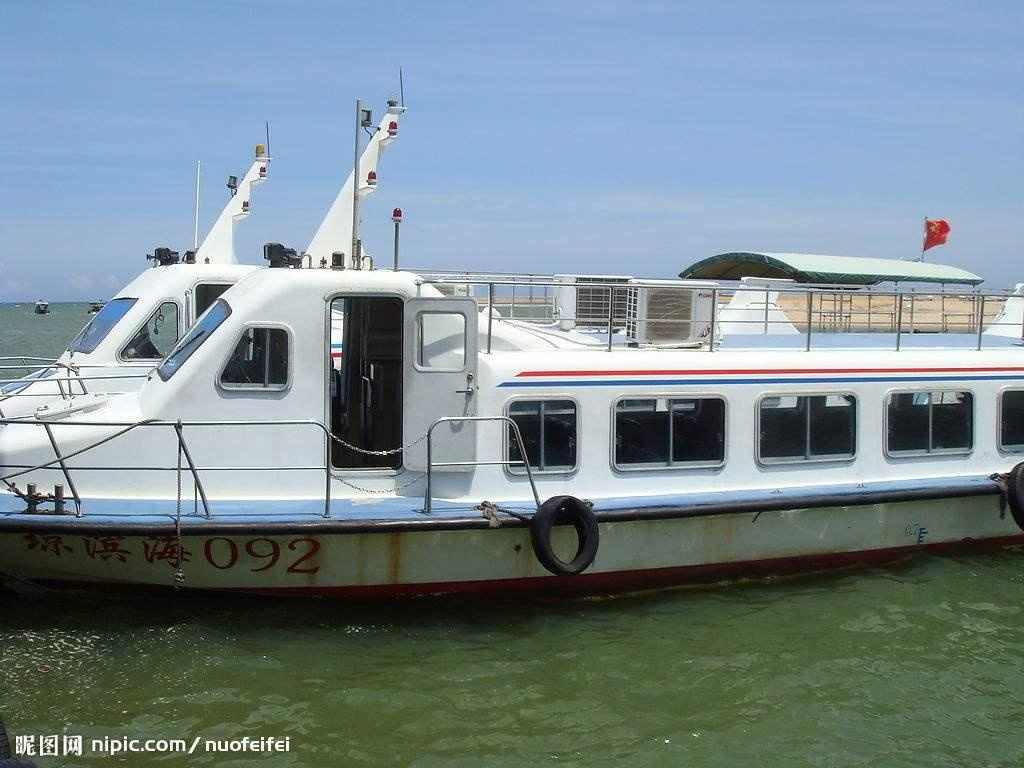otherboat: (1, 96, 1024, 600)
